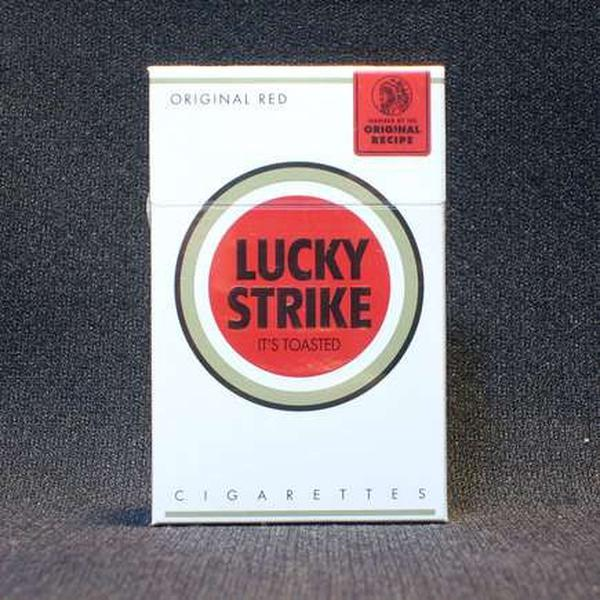lucky_strike_red: (148, 67, 447, 522)
